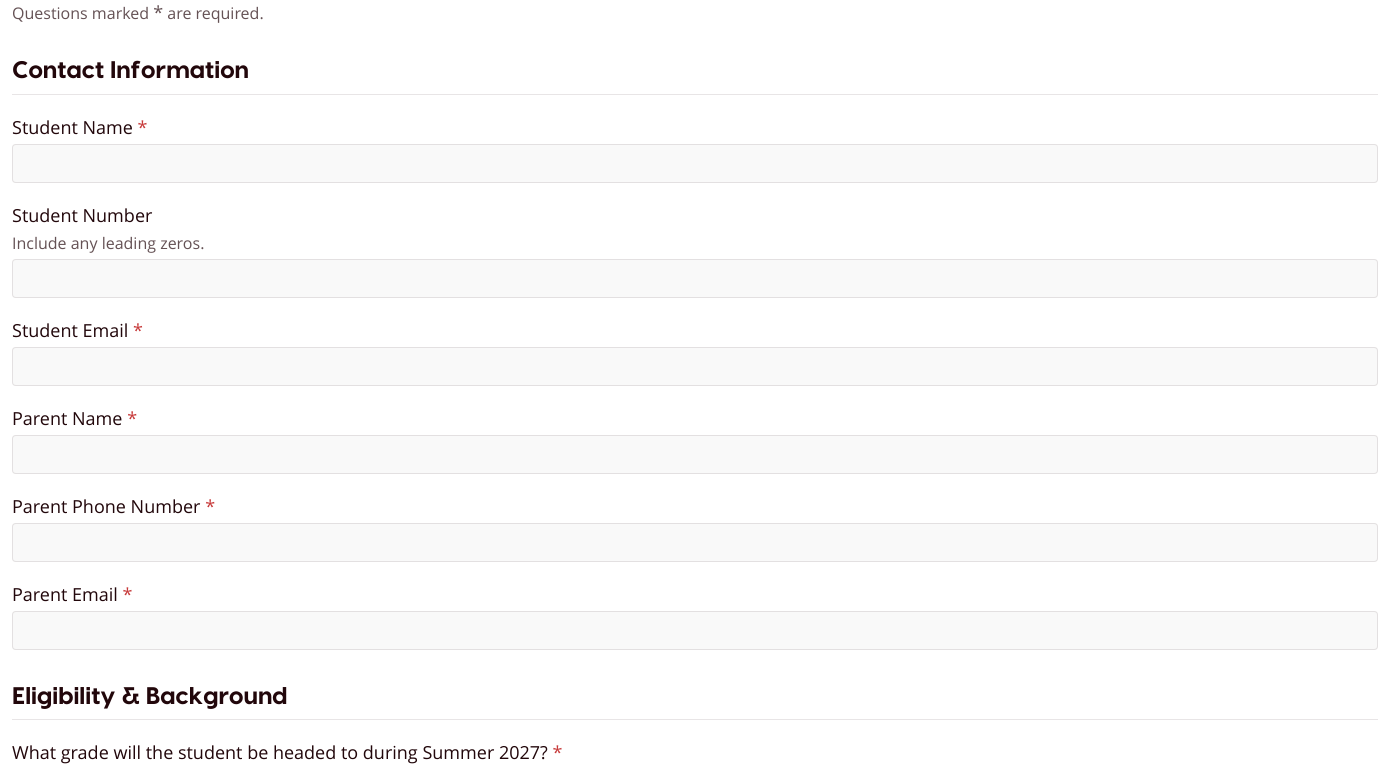
DynamicForm › flags every invalid answer on submit and focuses the first
Step 1. Type "ada" into the field labelled "Student Email *" → (695, 366), box [12,346,1378,386]
(page scrolled)
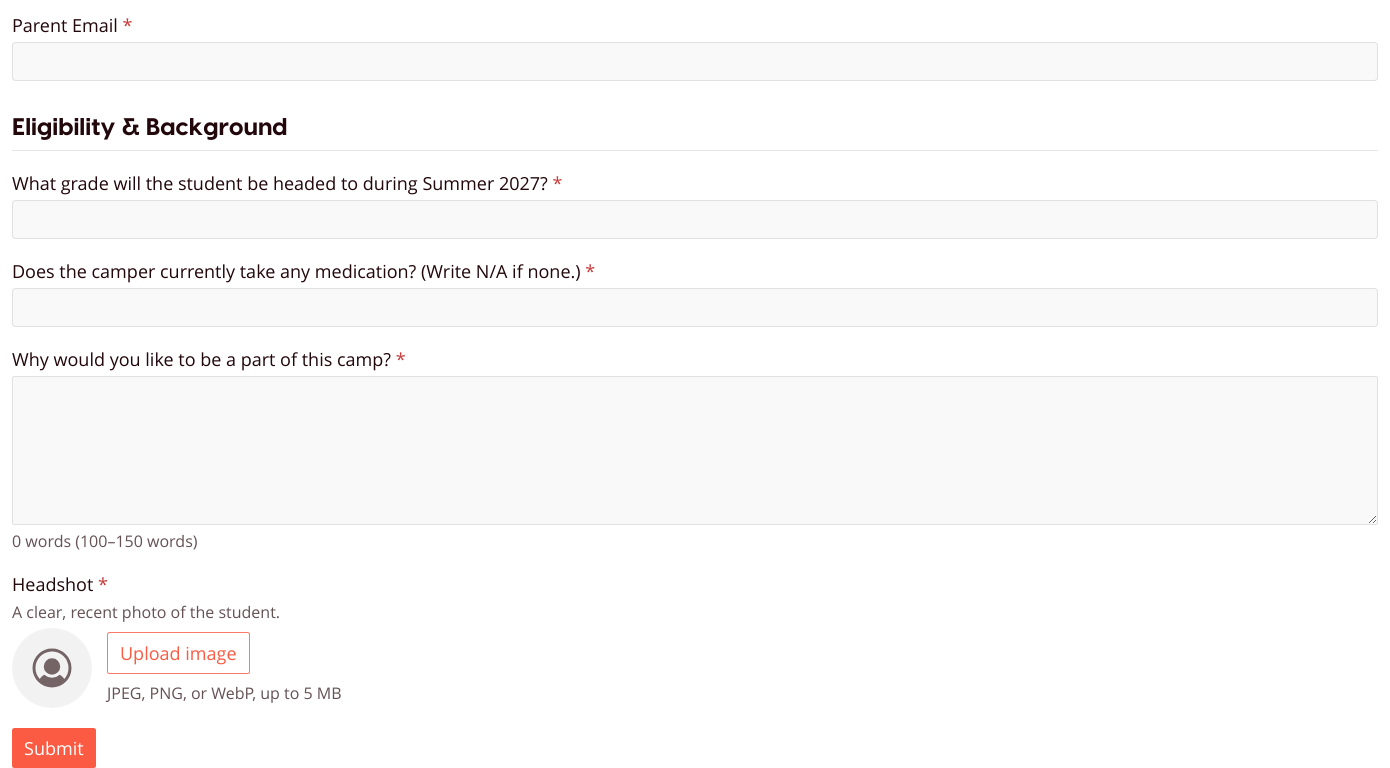
Step 2. Click the button "Submit" → (54, 748), box [12,728,96,767]
(page scrolled)
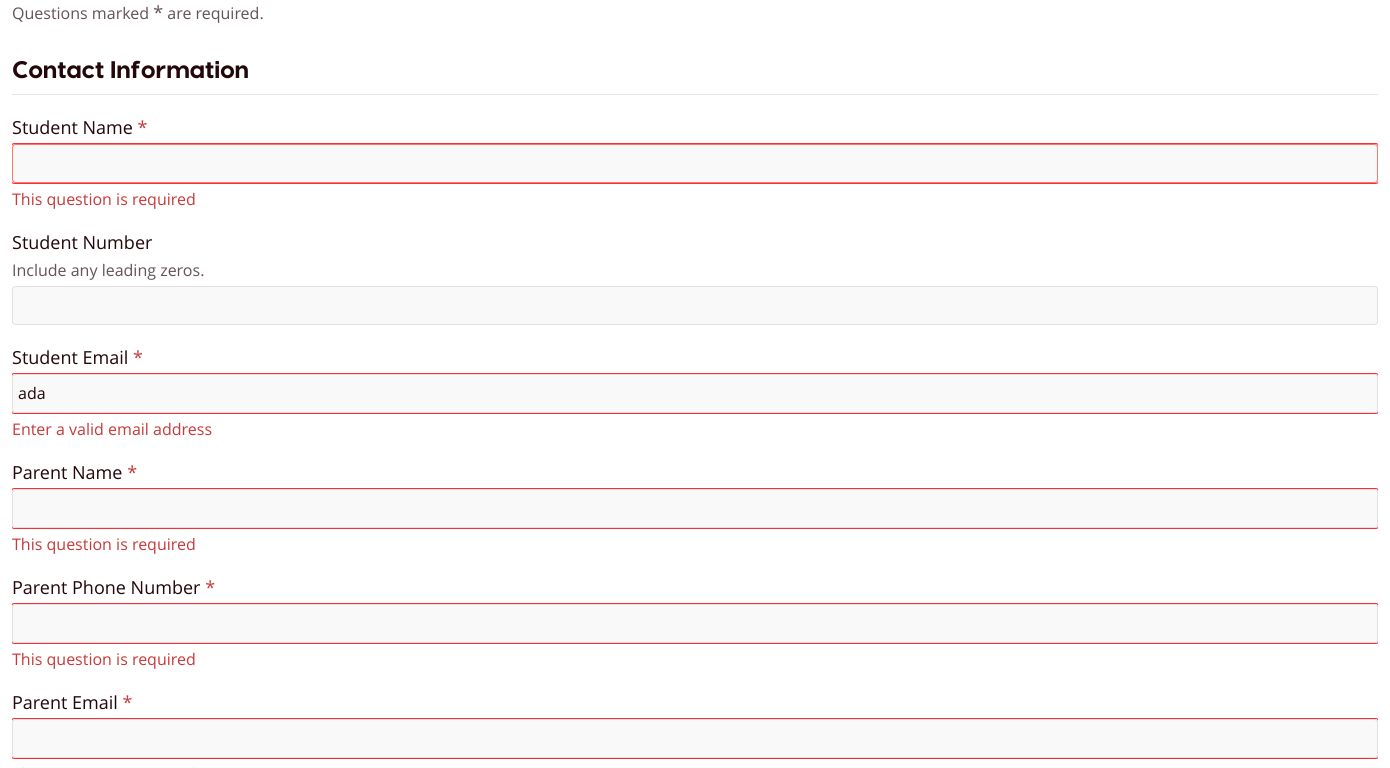
Check: the text "This question is required" is shown 8 times
Check: the text "Enter a valid email address" is shown, box [12,418,212,440]
